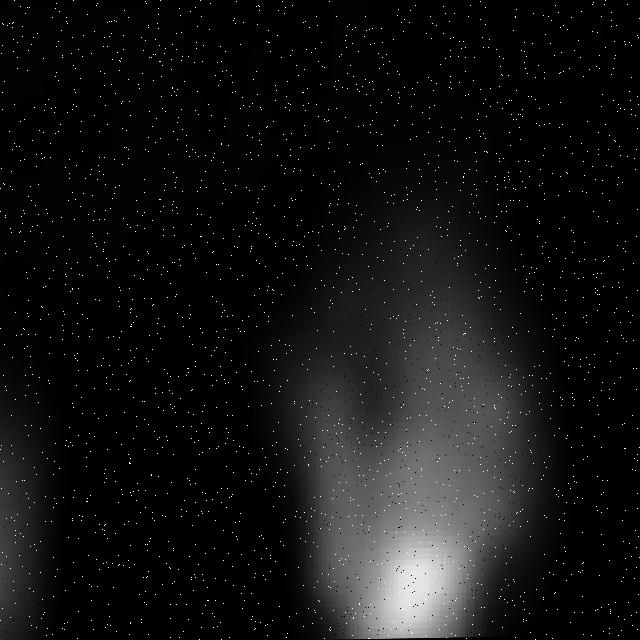person: (266, 162, 580, 640), (1, 244, 92, 640)
